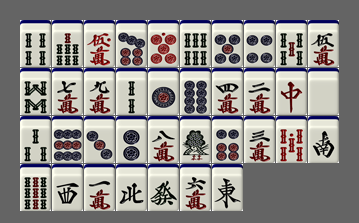0m: (84, 20, 115, 67)
0p: (148, 20, 179, 67)
0s: (276, 116, 307, 163)
1m: (84, 164, 115, 211)
1p: (148, 68, 179, 115)
1s: (180, 116, 211, 163)
1z: (212, 164, 243, 211)
2m: (244, 68, 275, 115)
2p: (116, 116, 147, 163)
2s: (116, 68, 147, 115)
2z: (308, 116, 339, 163)
3m: (244, 116, 275, 163)
3p: (84, 116, 115, 163)
3s: (20, 116, 51, 163)
3z: (52, 164, 83, 211)
4m: (212, 68, 243, 115)
4p: (244, 20, 275, 67)
4s: (20, 20, 51, 67)
4z: (116, 164, 147, 211)
5m: (308, 20, 339, 67)
5p: (212, 20, 243, 67)
5s: (276, 20, 307, 67)
5z: (308, 68, 339, 115)
6m: (180, 164, 211, 211)
6p: (212, 116, 243, 163)
6s: (180, 20, 211, 67)
6z: (148, 164, 179, 211)
7m: (52, 68, 83, 115)
7p: (116, 20, 147, 67)
7s: (52, 20, 83, 67)
7z: (276, 68, 307, 115)
8m: (148, 116, 179, 163)
8p: (180, 68, 211, 115)
8s: (20, 68, 51, 115)
9m: (84, 68, 115, 115)
9p: (52, 116, 83, 163)
9s: (20, 164, 51, 211)
